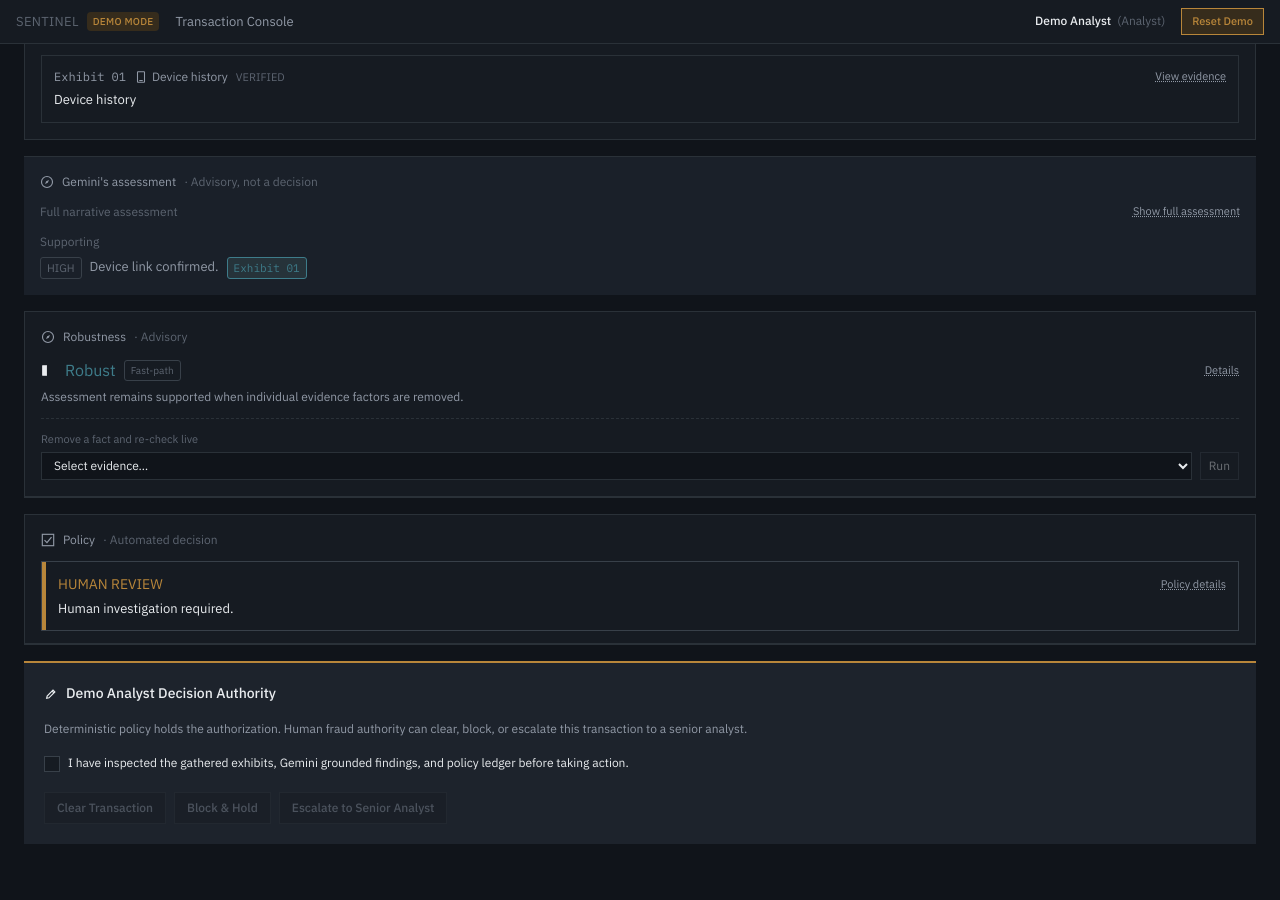
DemoCaseDetailPage › renders demo case detail and executes ESCALATE_SENIOR decision
(page scrolled)
Check: the button "Escalate to Senior Analyst" is shown, box left=279, top=792, right=448, bottom=824
# Check evidence acknowledged checkbox
Click the checkbox at (52, 764), box left=44, top=756, right=60, bottom=772
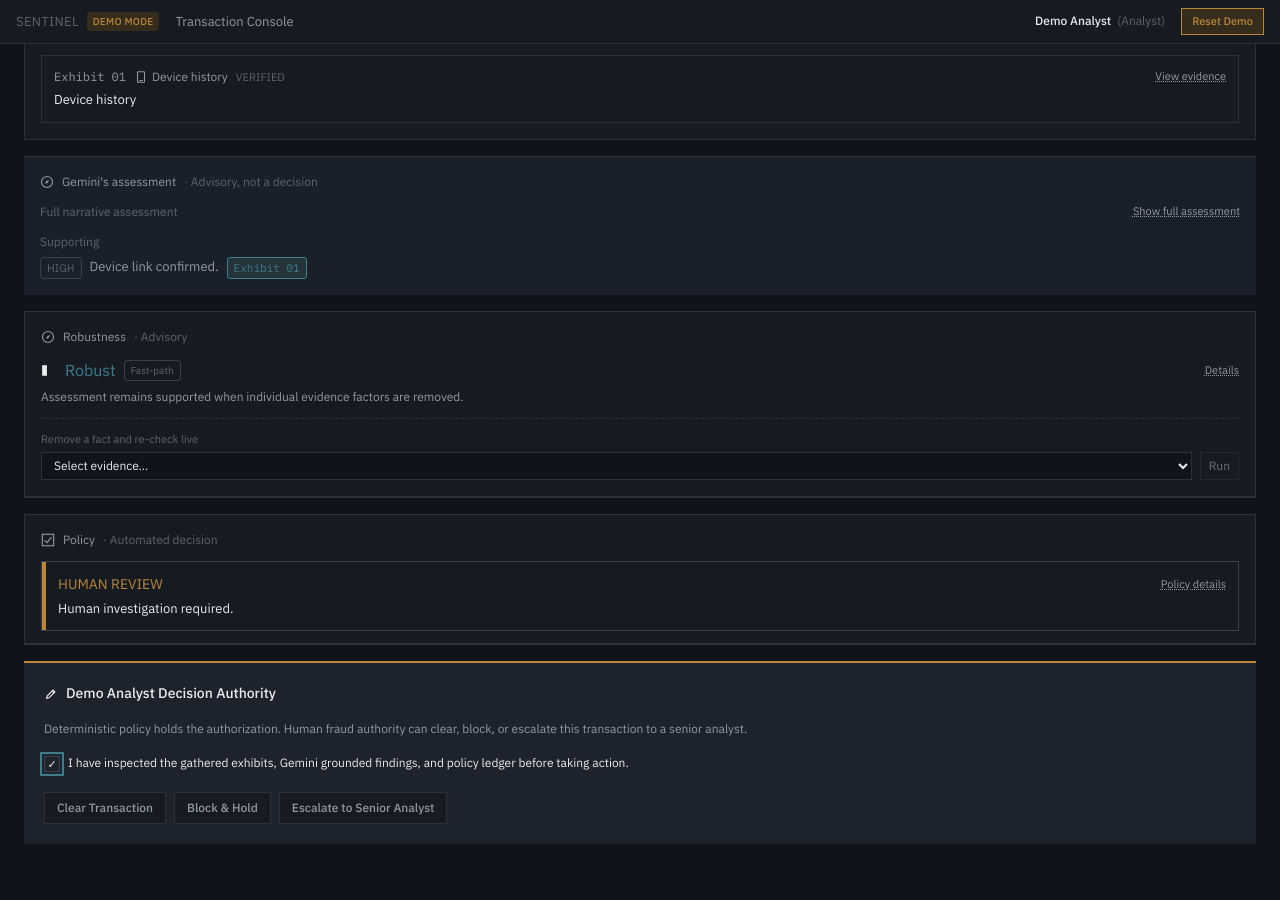
# Click Escalate
Click the button "Escalate to Senior Analyst" at (363, 808), box left=279, top=792, right=448, bottom=824
(page scrolled)
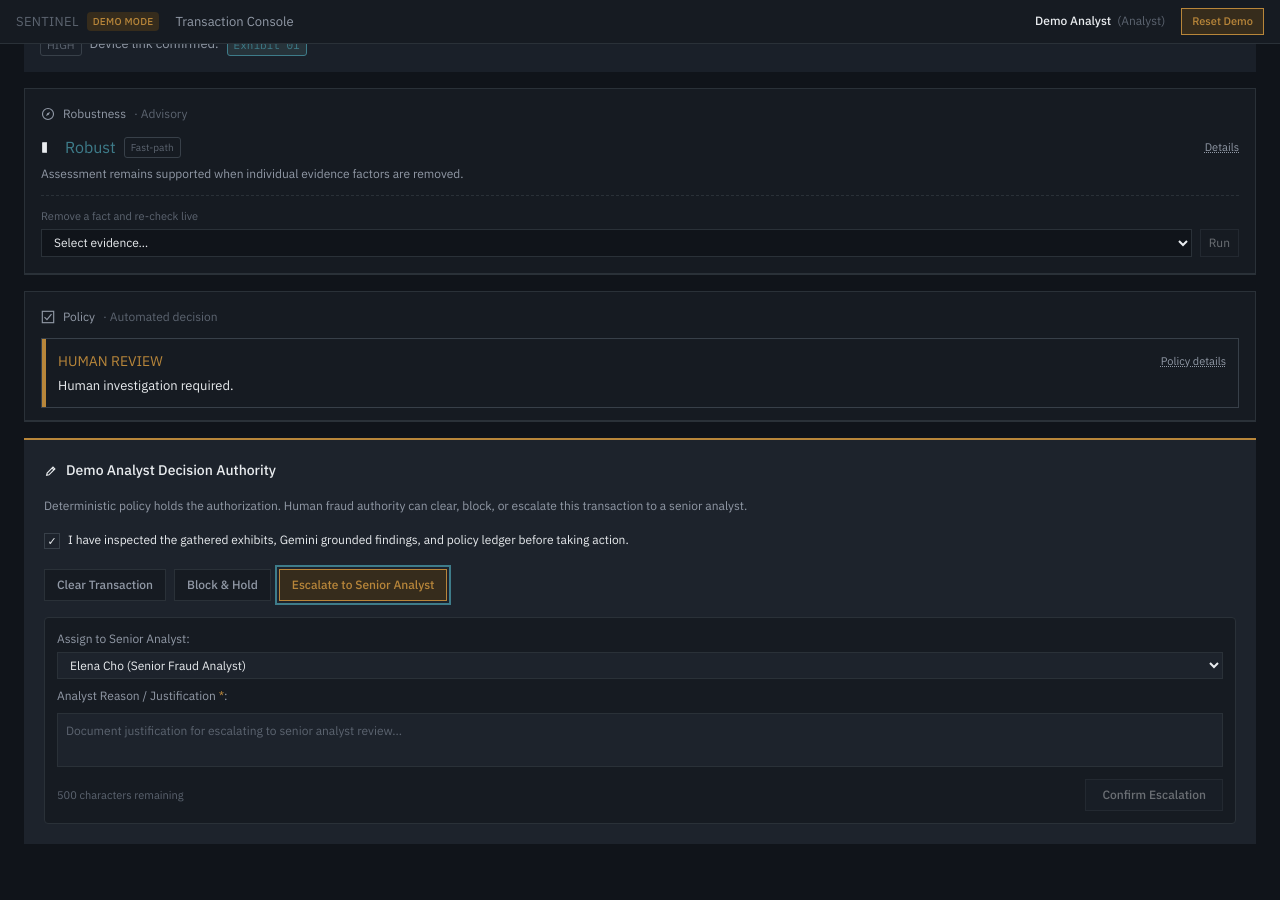
# Type reason
Type "Complex device link requires senior review" into the text box with placeholder "Document justification" at (640, 740), box left=57, top=713, right=1223, bottom=767
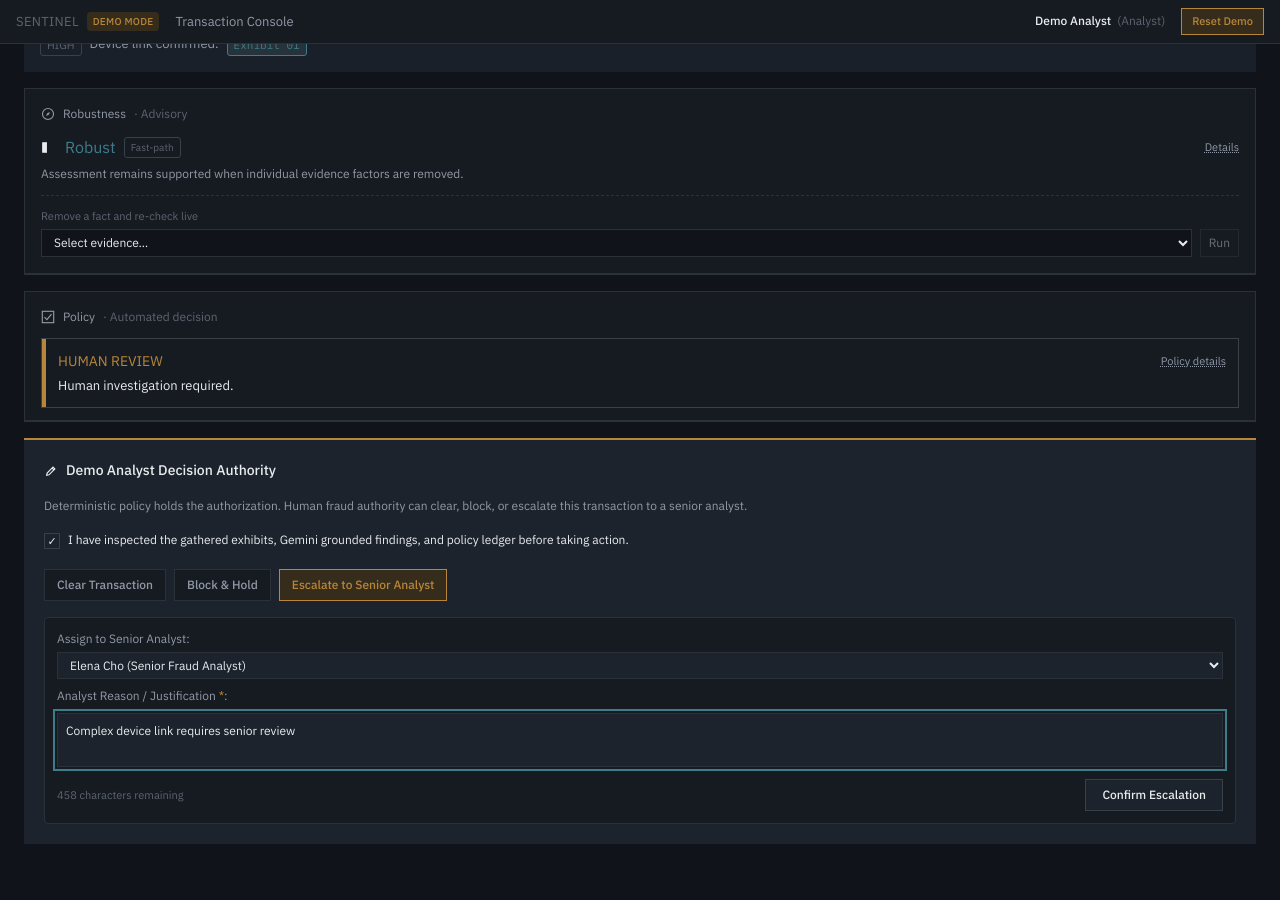
# Click confirm
Click the button "Confirm Escalation" at (1154, 795), box left=1086, top=779, right=1223, bottom=811
(page scrolled)
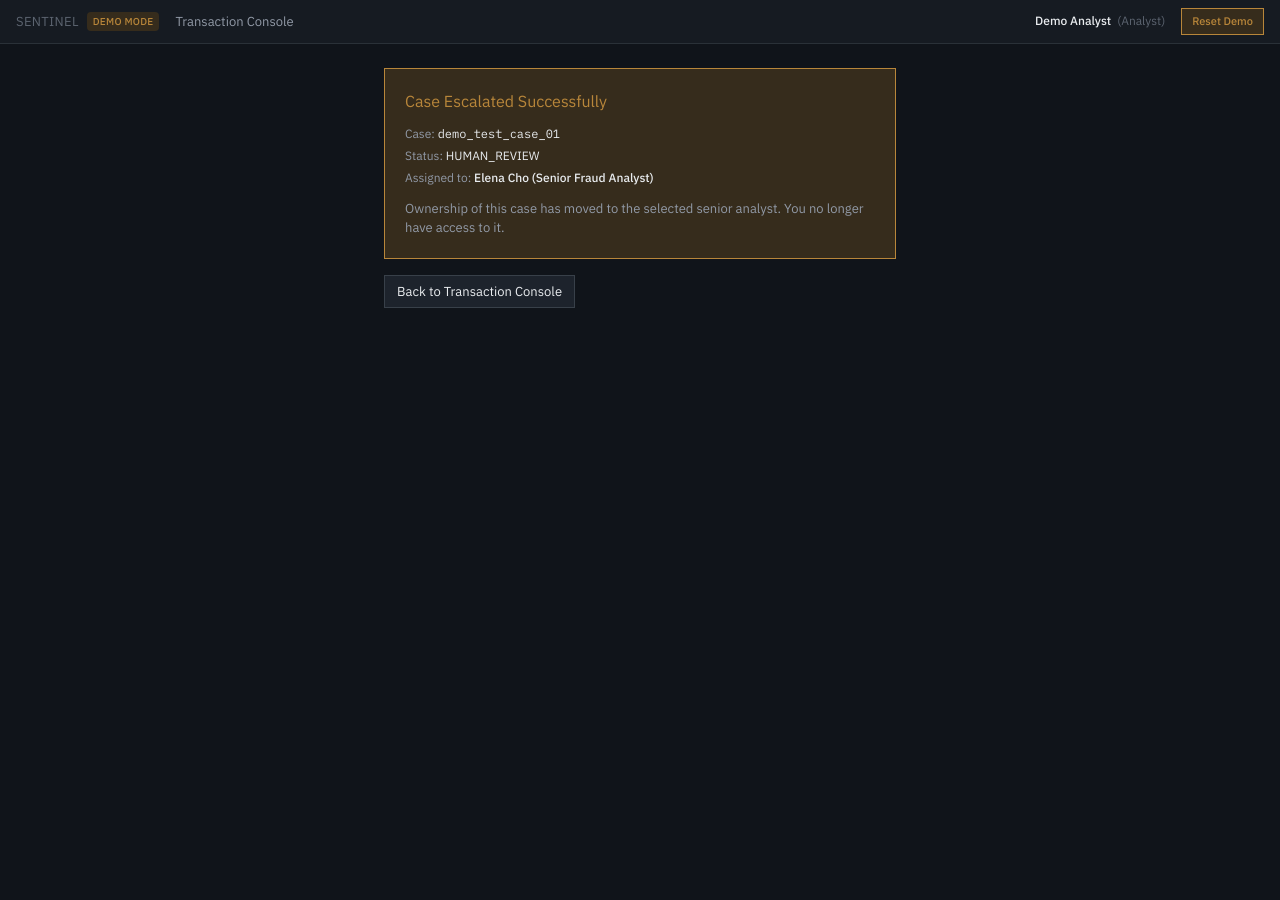
Check: the text "Case Escalated Successfully" is shown, box left=405, top=90, right=607, bottom=110
Check: the text "Elena Cho (Senior Fraud Analyst)" is shown, box left=474, top=170, right=654, bottom=184
Check: the text "Assigned to: Elena Cho (Senior Fraud Analyst)" is shown, box left=405, top=170, right=654, bottom=184
